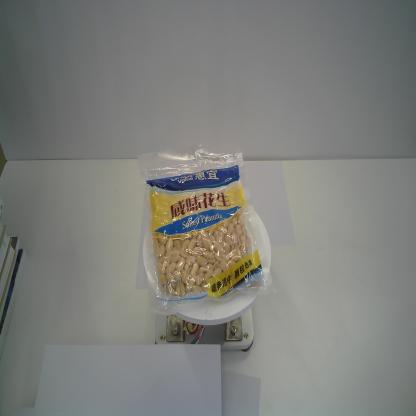Dried Fruit: (135, 141, 277, 320)
